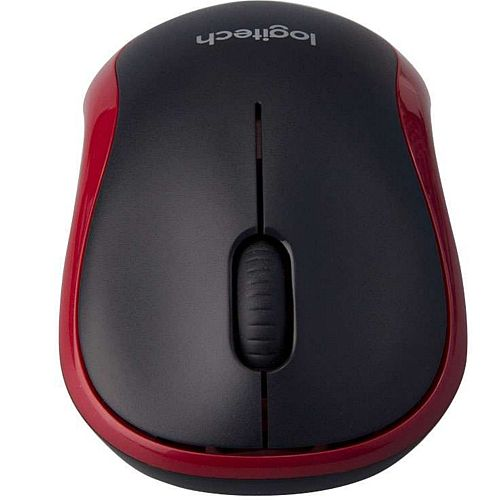logitech-mouse-m185: (57, 4, 465, 500)
